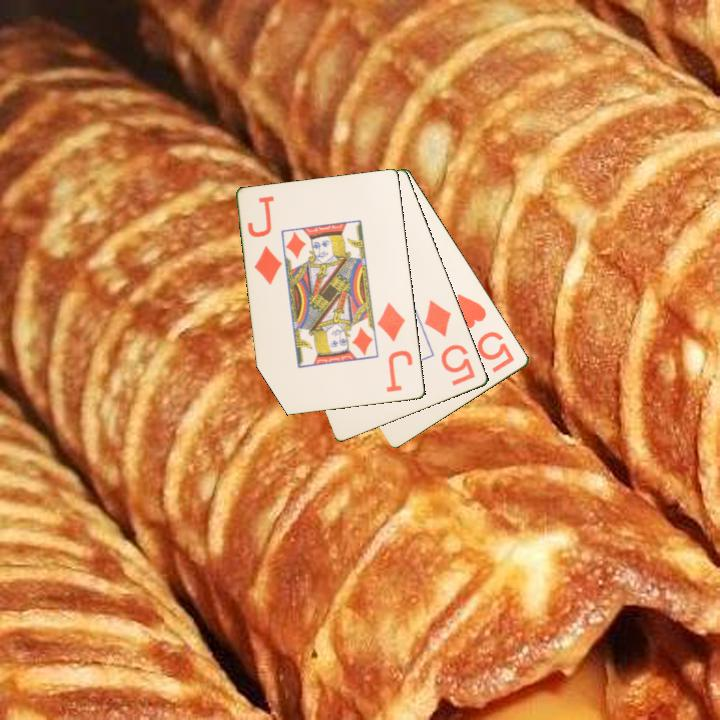5d: (421, 296, 479, 389)
5h: (454, 290, 518, 376)
Jd: (374, 299, 416, 396), (244, 193, 285, 288)
